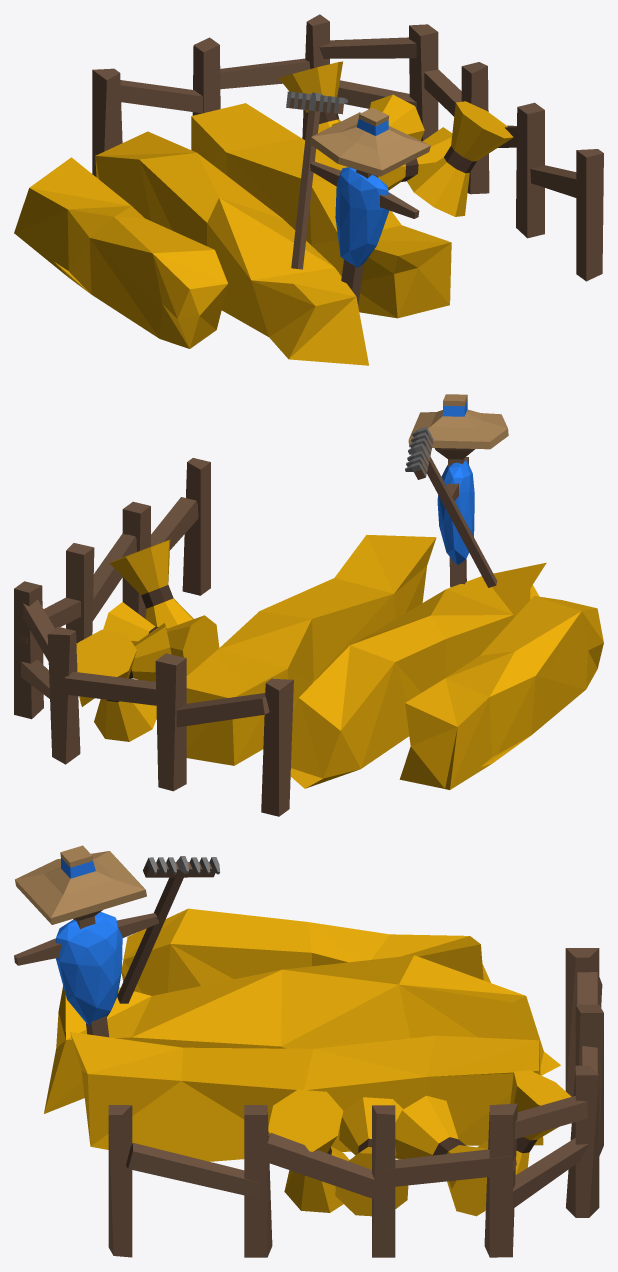
Rendered from Wheat Farm LvL 1.fbx.
3 views of the same model, one above another, from view 1: azimuth 30°, elevation 25°; view 2: azimuth 150°, elevation 25°; view 3: azimuth 270°, elevation 25° (orthographic). The views are drawn at different scales.
Visible parts, largest first — view 1: Cube.007, Team Color Obj.011; view 2: Cube.007, Team Color Obj.011; view 3: Cube.007, Team Color Obj.011.
Part boxes in pixels (x1,y1,x2,y2): Cube.007: (14, 14, 603, 365); Team Color Obj.011: (335, 119, 389, 267); Cube.007: (14, 394, 603, 816); Team Color Obj.011: (437, 400, 474, 564); Cube.007: (14, 845, 603, 1257); Team Color Obj.011: (55, 858, 122, 1025).
Size of the model in its own units: 123 by 65.26 by 128.
